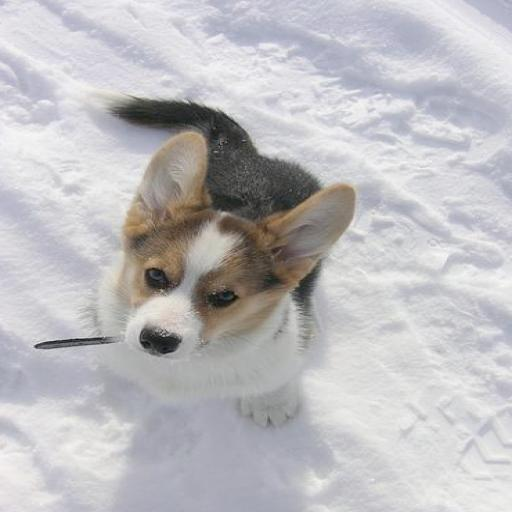dog_face: (116, 138, 346, 356)
